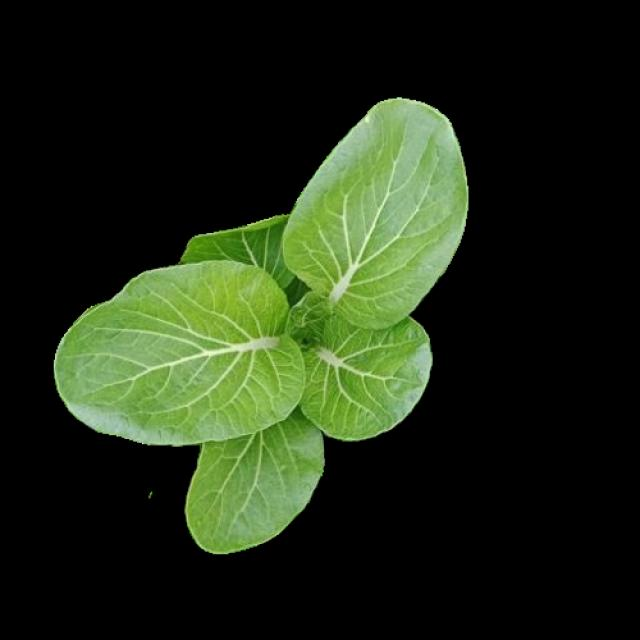healthy: (54, 99, 466, 549)
not-mature: (56, 101, 468, 552)
